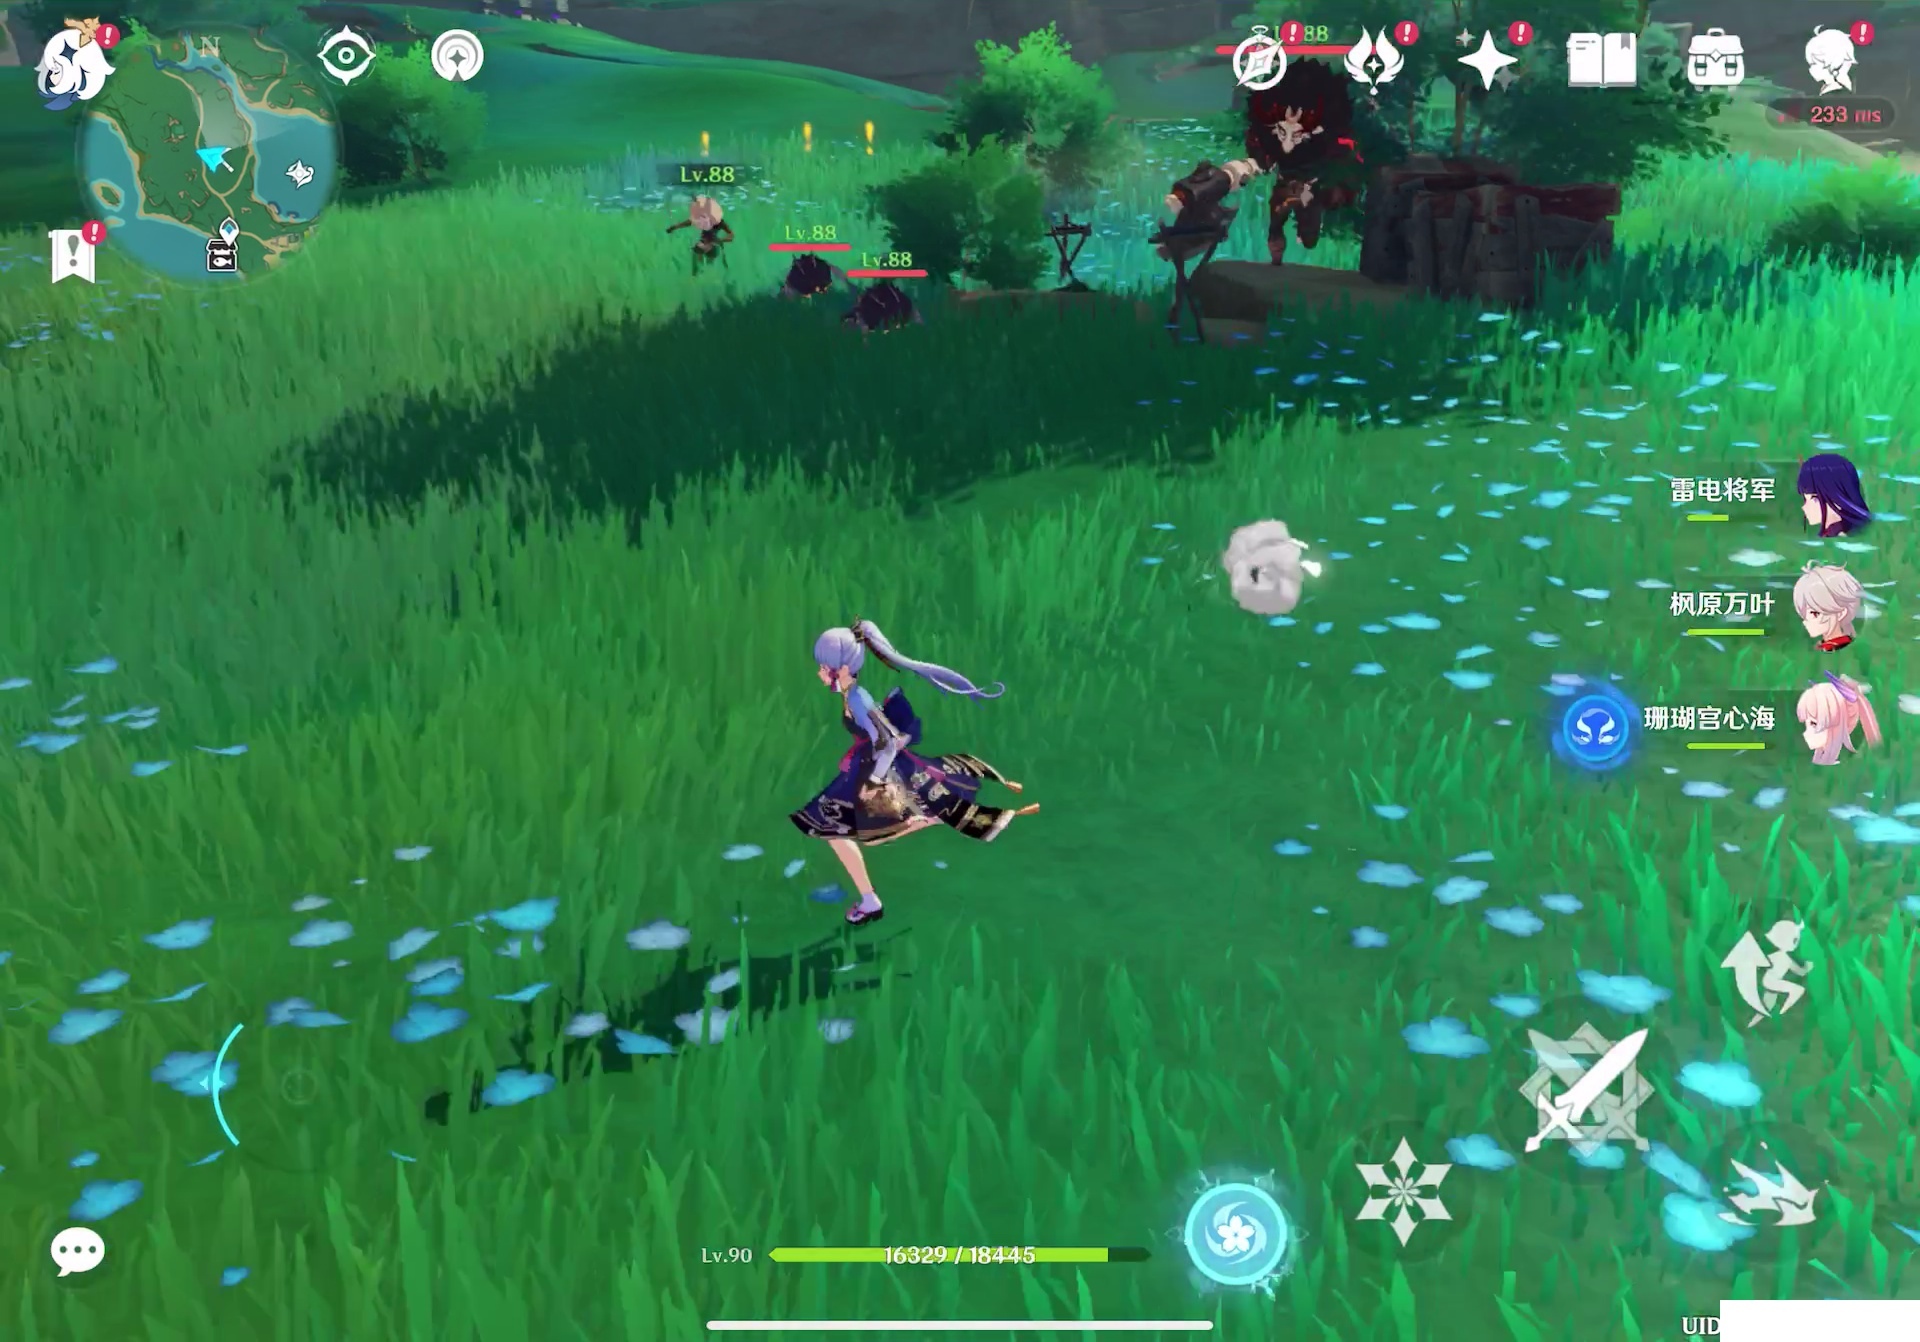NTR: (1205, 82, 1367, 251)
丘丘人: (673, 193, 746, 279), (853, 286, 929, 338), (781, 252, 849, 308)
神里绫龟: (788, 620, 1007, 900)
